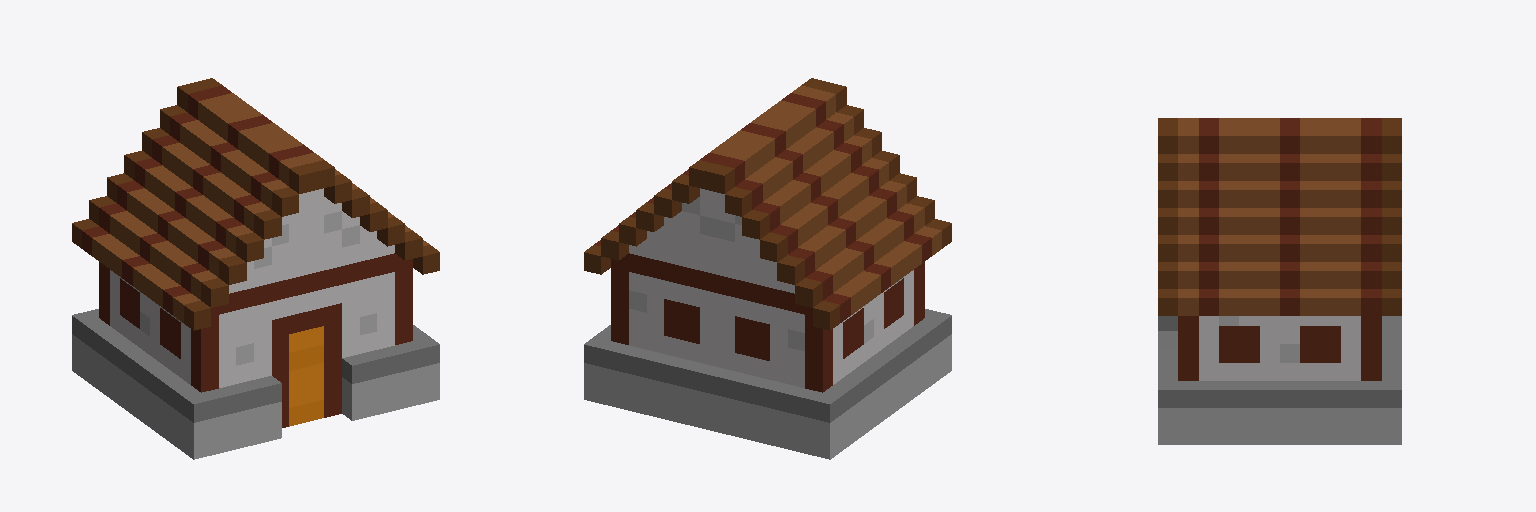
Rendered from casa.obj.
3 renders of one model, left to right at view 1: azimuth 30°, elevation 25°; view 2: azimuth 150°, elevation 25°; view 3: azimuth 270°, elevation 25°, orthographic.
Visible parts, largest first — view 1: Объект_Куб; view 2: Объект_Куб; view 3: Объект_Куб.
Part boxes in pixels (bbox=[...]): Объект_Куб: bbox=[72, 78, 439, 459]; Объект_Куб: bbox=[584, 78, 951, 459]; Объект_Куб: bbox=[1158, 118, 1401, 444].
Size of the model in its own units: 35 by 35 by 30.